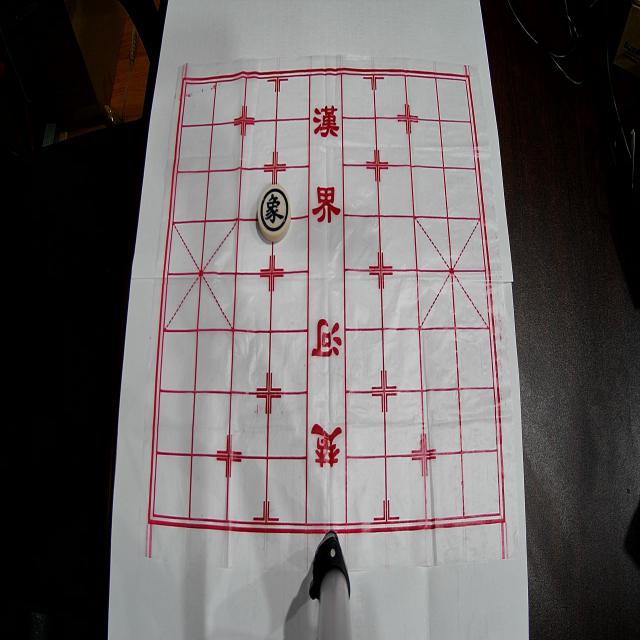black-elephant: (258, 184, 292, 242)
